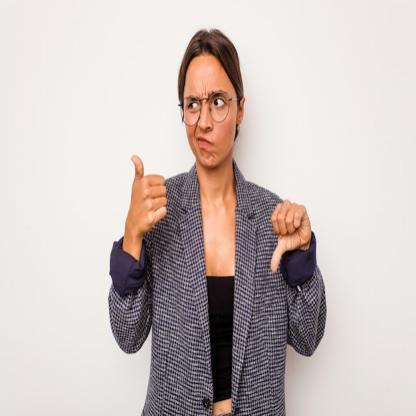thumb_down: (265, 193, 312, 274)
thumb_up: (124, 149, 171, 237)
